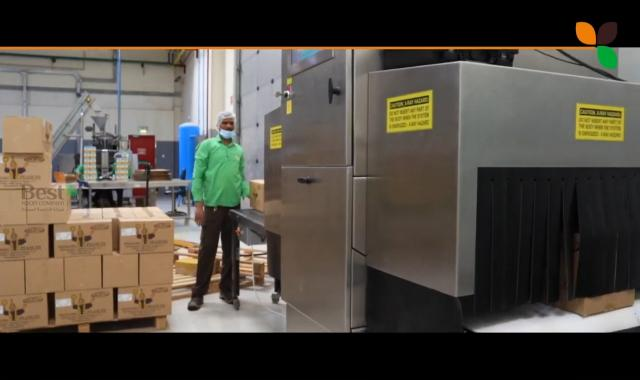hairnet: (216, 109, 238, 132)
